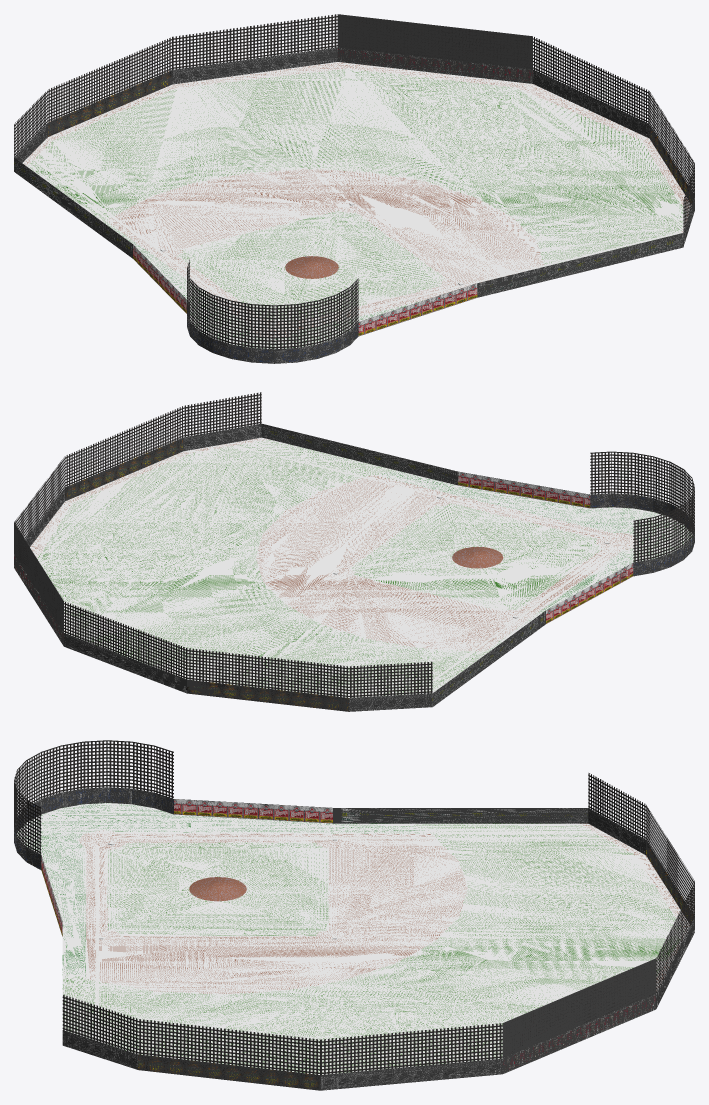
File: field2.dae
3 renders of one model, top to bottom at view 1: azimuth 30°, elevation 25°; view 2: azimuth 150°, elevation 25°; view 3: azimuth 270°, elevation 25°, orthographic. The views are drawn at different scales.
Visible parts, largest first — view 1: SketchUp (×24); view 2: SketchUp (×27); view 3: SketchUp (×25).
Part boxes in pixels (x1=…): SketchUp (×24): x1=14, y1=14, x2=694, y2=363; SketchUp (×27): x1=14, y1=392, x2=694, y2=711; SketchUp (×25): x1=14, y1=740, x2=694, y2=1090.
Bounding box in the file's own units: 3390 × 3390 × 344.
Materials: 16 (12 with a texture image).
